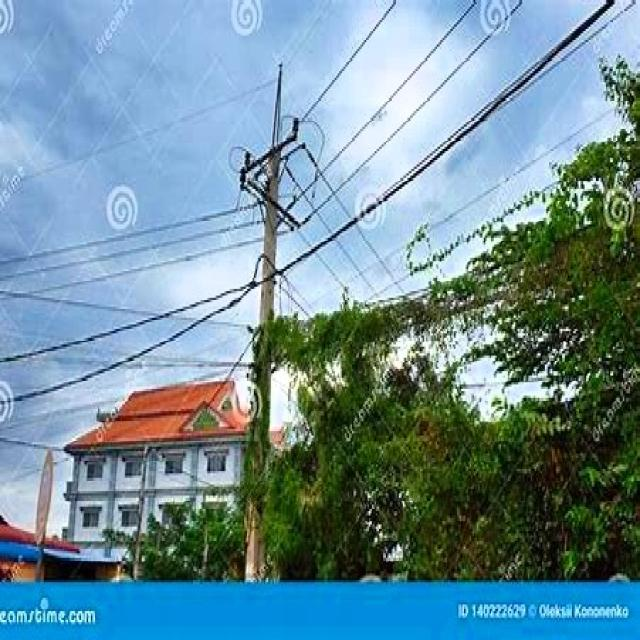critical vegetation: (265, 263, 640, 396)
